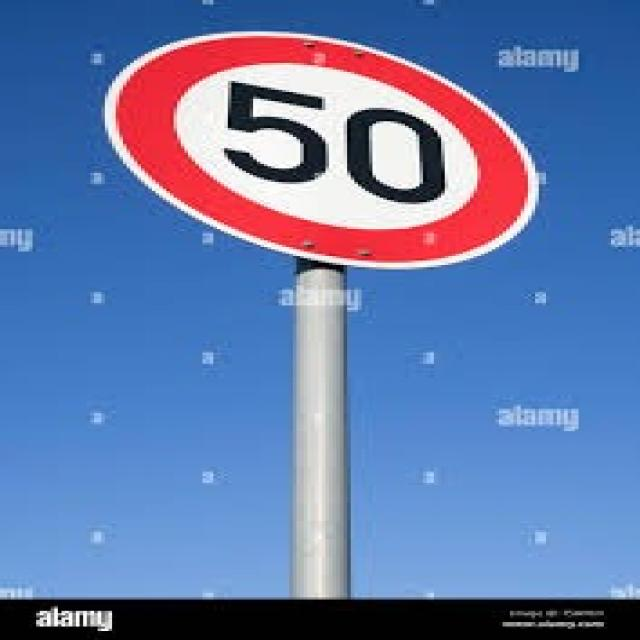speed_limit_50: (103, 25, 546, 276)
